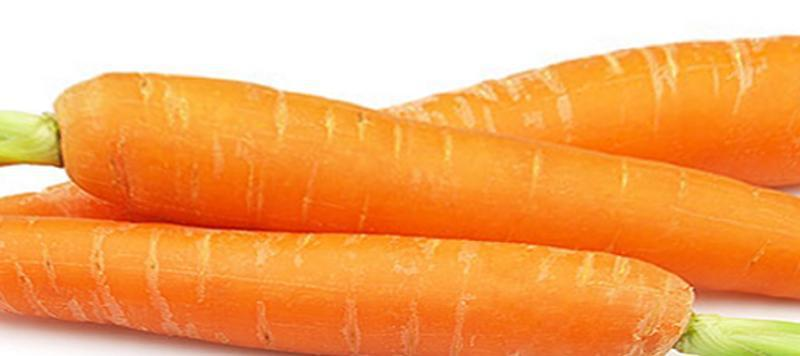carrot: (25, 64, 800, 282), (0, 201, 689, 356)
